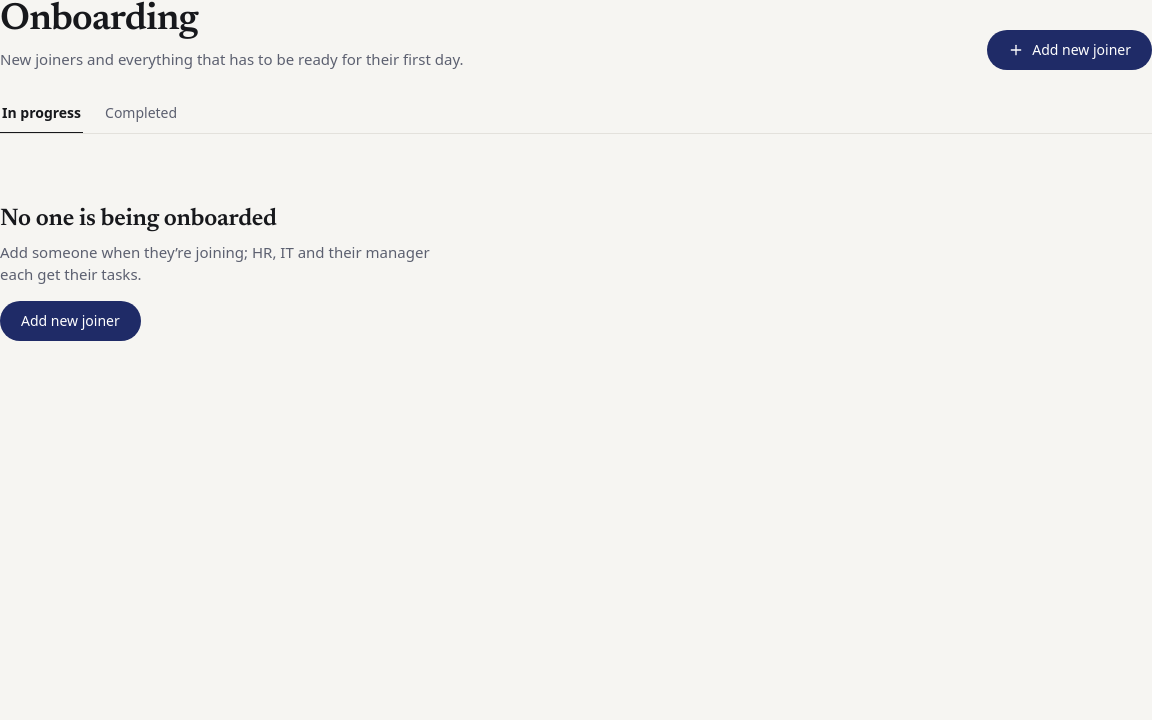
Scenario: Add new joiner › creates the account and checklist, then shows the one-time link to copy
This screenshot has width=1152, height=720.
Click the button "Add new joiner" in the row of "Onboarding" at (1070, 50), box [987,30,1151,70]
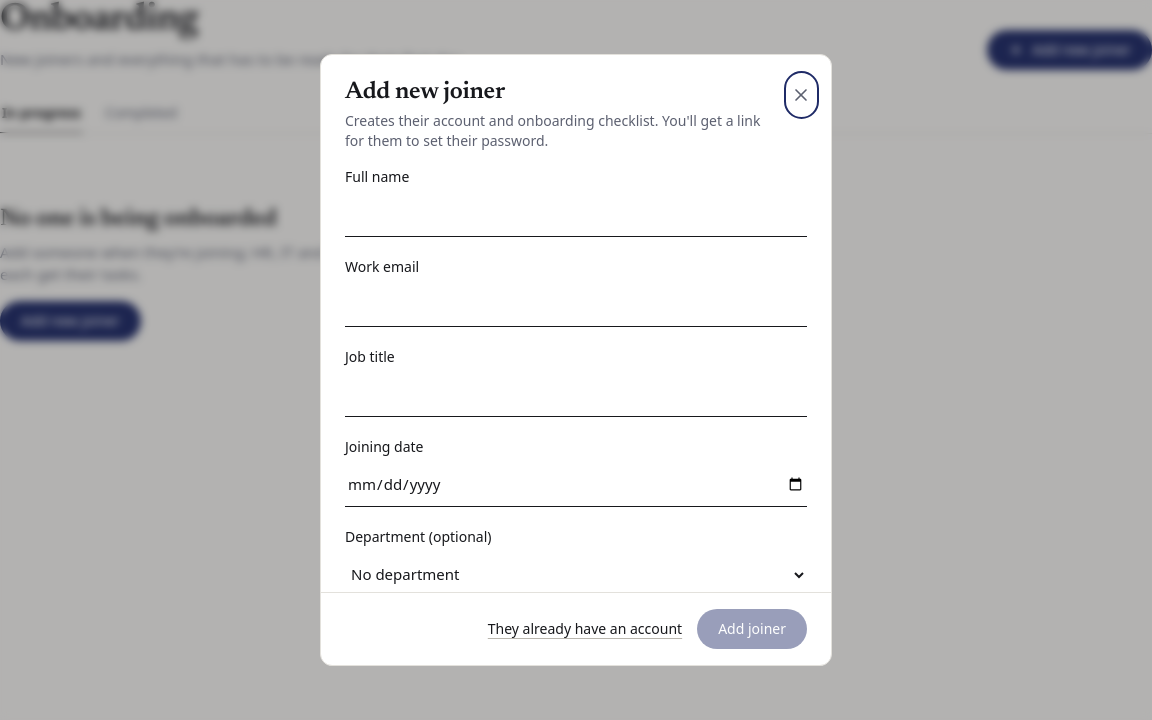
Expected: the button "Add joiner" is disabled, [697,609,807,649]
Type "Kavya Rao" into the field labelled "Full name" at (576, 215), box [345,193,807,237]
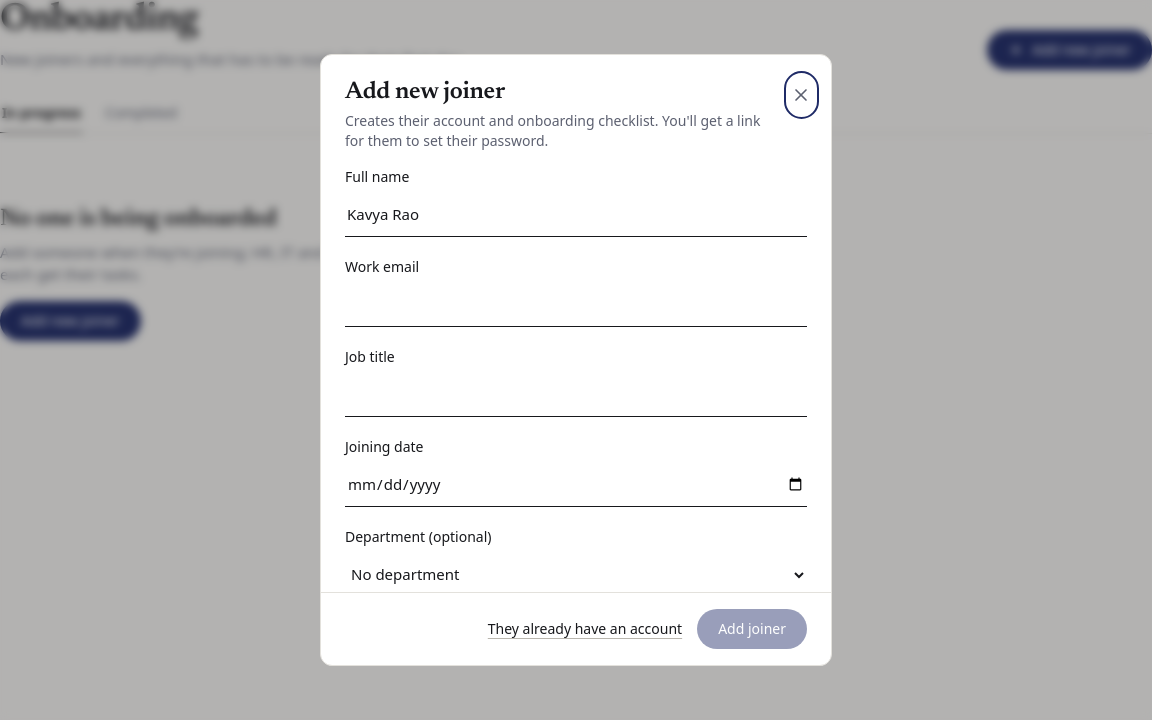
Type "kavya@company.com" into the field labelled "Work email" at (576, 305), box [345,283,807,327]
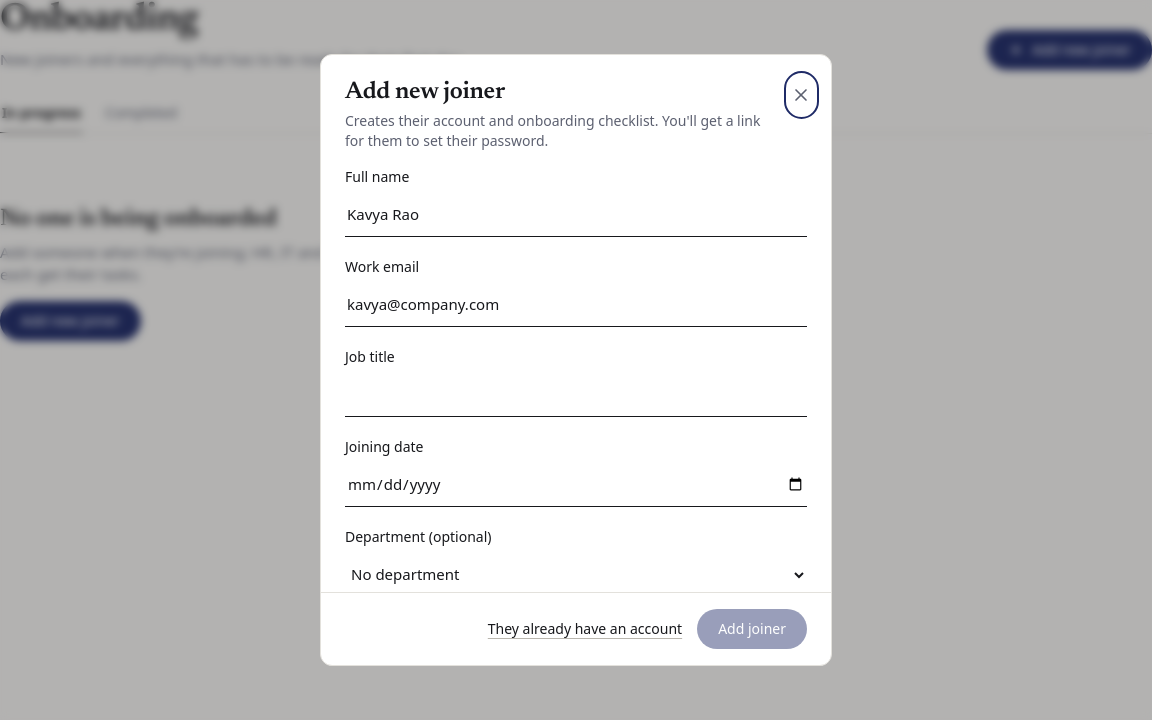
Type "Designer" into the field labelled "Job title" at (576, 395), box [345,373,807,417]
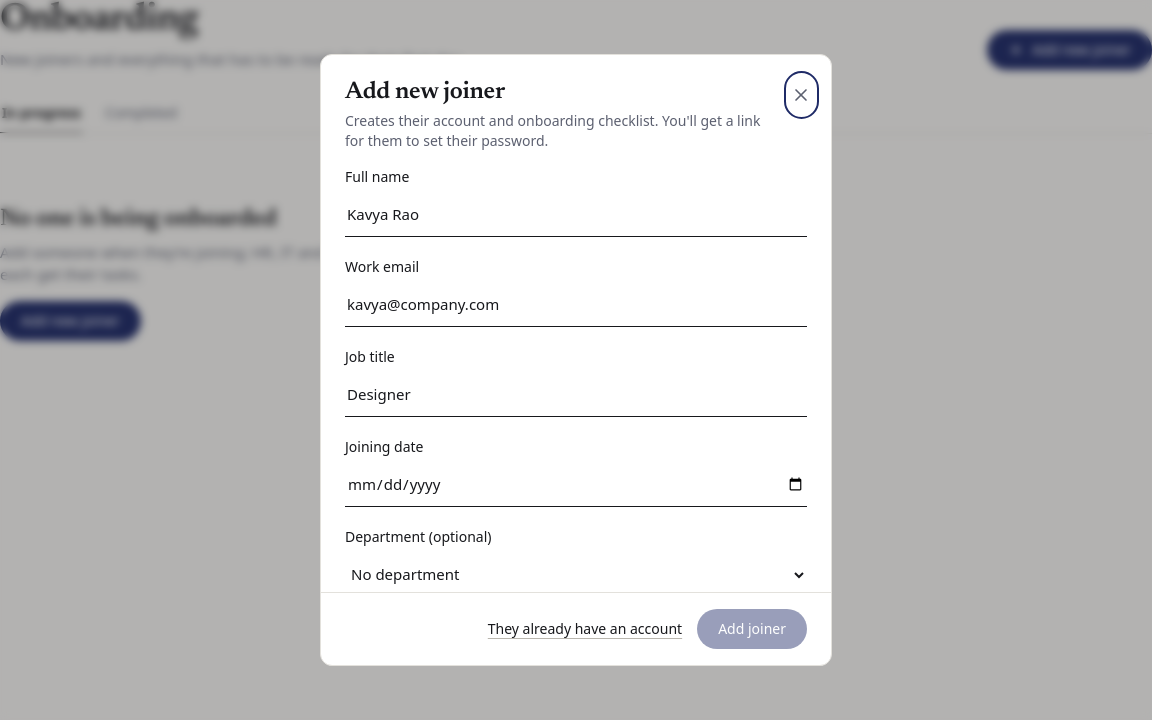
Type "2099-01-20" into the date field labelled "Joining date" at (576, 485), box [345,463,807,507]
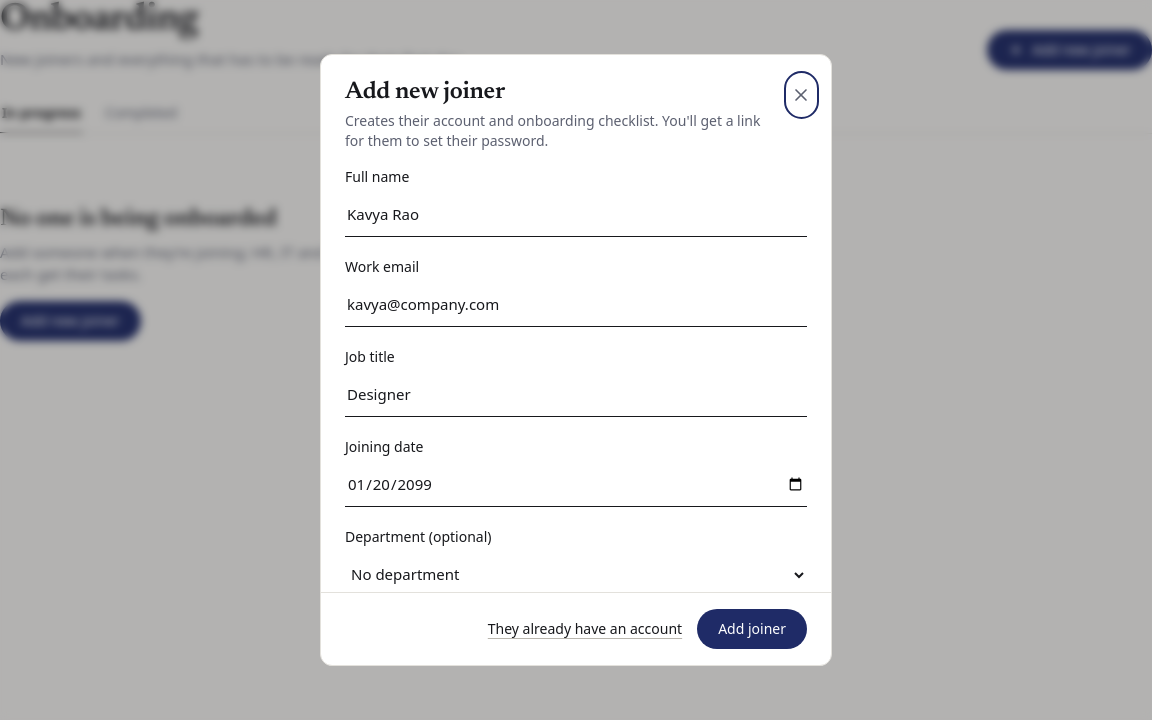
Click the button "Add joiner" at (752, 629), box [697,609,807,649]
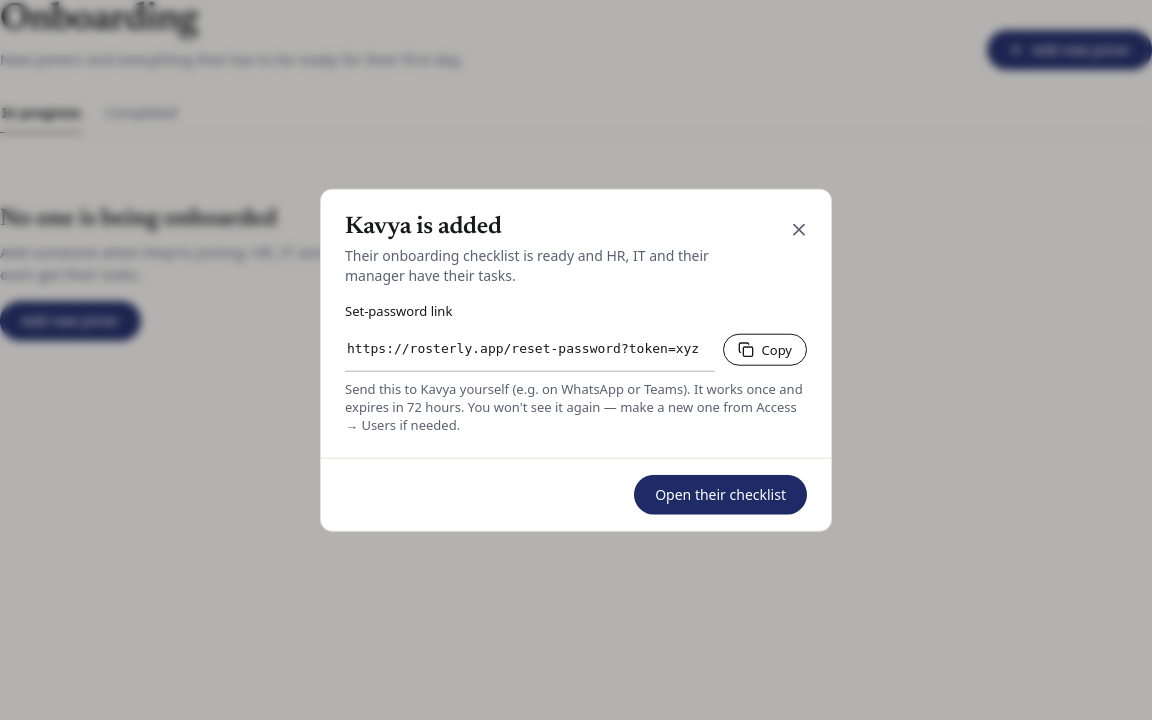
Expected: the field showing "https://rosterly.app/reset-password?token=xyz" is shown, [345,327,714,371]
Expected: the text "expires in 72 hours" is shown, [345,379,803,433]
